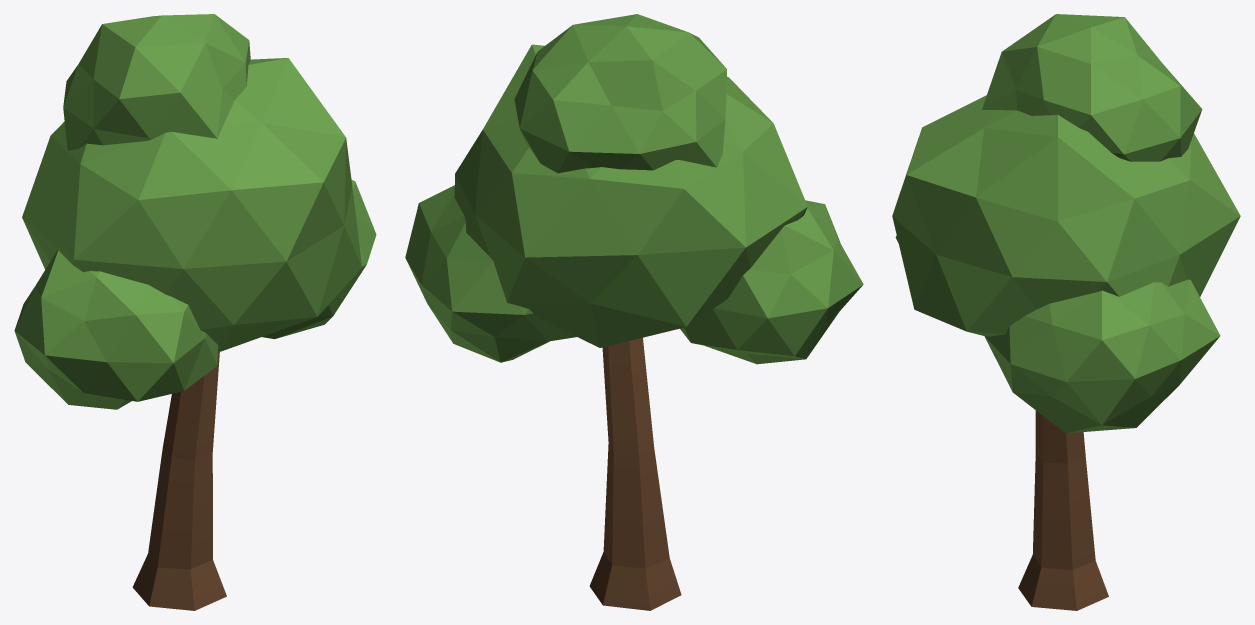
Rendered from tree.glb.
3 renders of one model, left to right at view 1: azimuth 30°, elevation 25°; view 2: azimuth 150°, elevation 25°; view 3: azimuth 270°, elevation 25°, orthographic. The views are drawn at different scales.
Parts seen in each view (by area): view 1: tree; view 2: tree; view 3: tree.
Part boxes in pixels (<box>): tree: <box>14,14,376,610</box>; tree: <box>405,14,863,610</box>; tree: <box>892,14,1240,610</box>.
Bounding box in the file's own units: 3.91 × 5.62 × 3.15.
